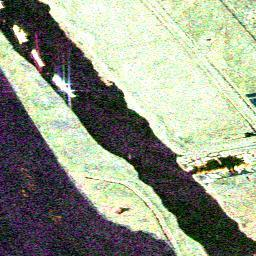Ship: (50, 73, 77, 99), (31, 47, 45, 72), (12, 26, 29, 42)
